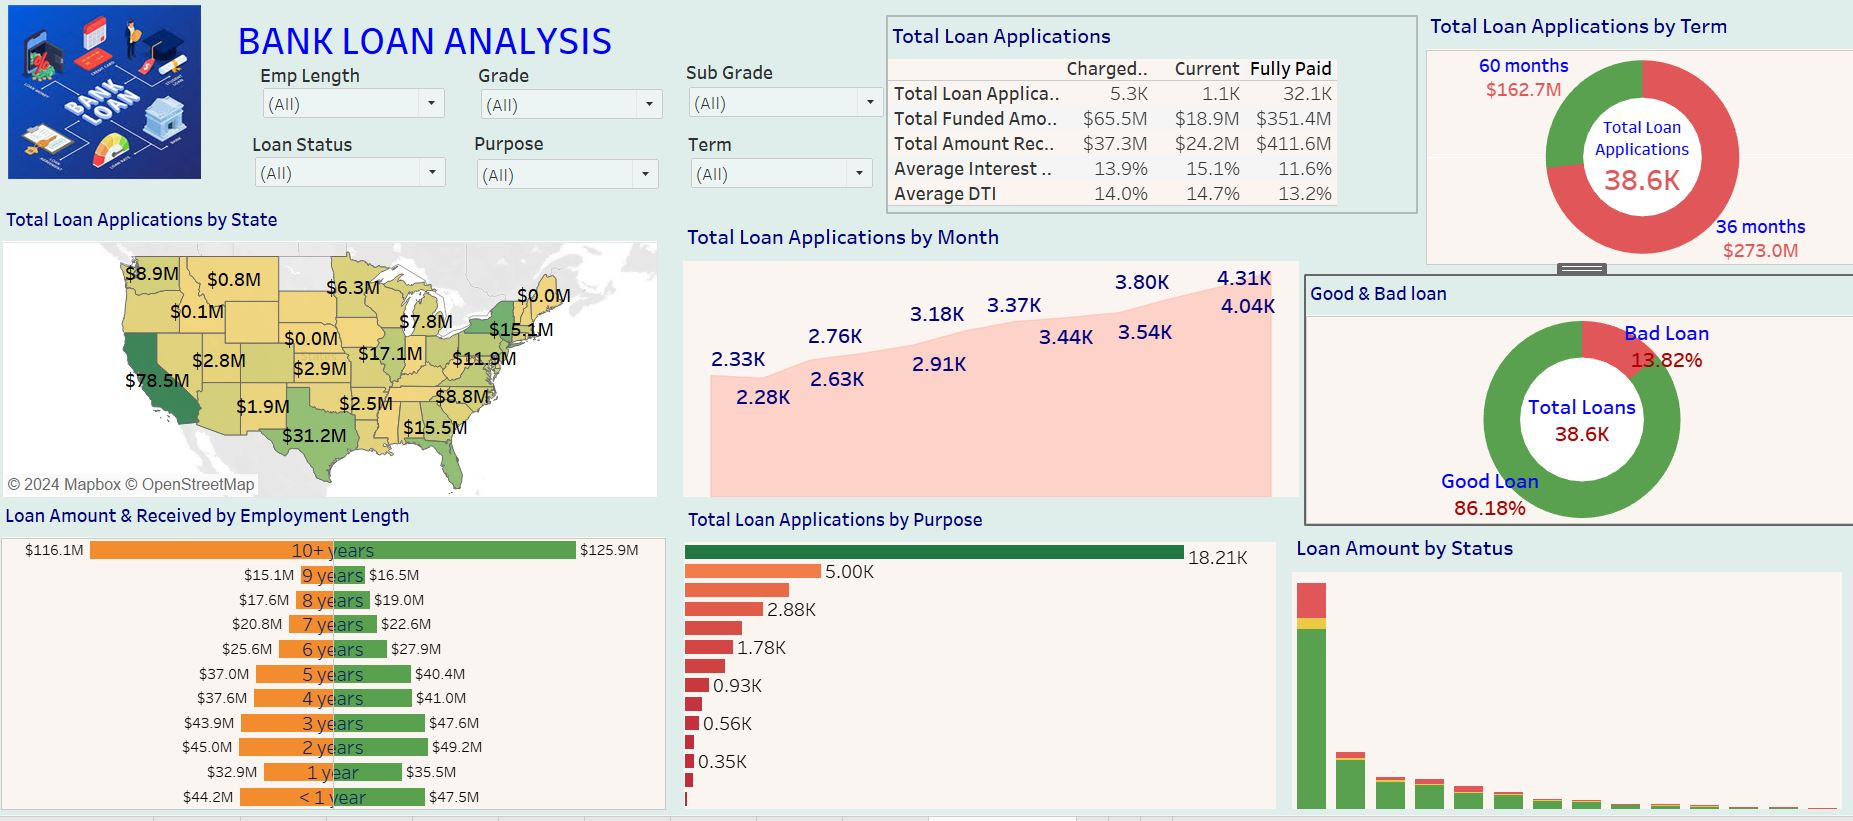

What the dashboard file says about the page in this screenshot:
{"tool":"tableau","page":{"name":"Dashboard 1","canvas":[1000,1000],"units":"permille","ordinal":0},"visuals":[{"type":"image","param":"Image/download.jfif","box":[6.9,9.8,118.5,212.7]},{"type":"worksheet","title":"Sheet 7","mark":"Pie","rows":["Calculation_789537326342385670","Calculation_789537326342385670"],"box":[760.6,12.2,230.7,315.4]},{"type":"text","box":[126.6,20.8,253.3,62.4]},{"type":"worksheet","title":"Sheet 3","mark":"Automatic","cols":["loan_status"],"box":[474.4,24.4,280.6,238.4]},{"type":"filter","title":"Sheet 8","param":"[federated.1e4wqi216tla9s1a881c41comqc8].[none:sub_grade:nk]","box":[367.2,75.8,106.6,73.4]},{"type":"filter","title":"Sheet 8","param":"[federated.1e4wqi216tla9s1a881c41comqc8].[none:emp_length:nk]","box":[140.9,79.5,99.8,68.5]},{"type":"filter","title":"Sheet 8","param":"[federated.1e4wqi216tla9s1a881c41comqc8].[none:grade:nk]","box":[256.9,79.5,99.8,70.9]},{"type":"filter","title":"Sheet 8","param":"[federated.1e4wqi216tla9s1a881c41comqc8].[none:purpose:nk]","box":[254.4,162.6,99.8,75.8]},{"type":"filter","title":"Sheet 8","param":"[federated.1e4wqi216tla9s1a881c41comqc8].[none:loan_status:nk]","box":[136.5,163.8,104.7,69.7]},{"type":"filter","title":"Sheet 8","param":"[federated.1e4wqi216tla9s1a881c41comqc8].[none:term:nk]","box":[368.4,163.8,99.8,72.1]},{"type":"worksheet","title":"Sheet 4","mark":"Automatic","box":[3.7,250.6,348.5,361.9]},{"type":"worksheet","title":"Sheet 6","mark":"Area","rows":["Calculation_789537326325018624"],"cols":["issue_date"],"box":[365.3,270.2,327.3,341.1]},{"type":"worksheet","title":"Sheet 9","mark":"Pie","rows":["Calculation_789537326342385670","Calculation_789537326342385670"],"box":[696.4,341.1,293.6,303.2]},{"type":"worksheet","title":"Sheet 5","mark":"Bar","rows":["emp_length"],"cols":["Calculation_789537326325776385","Calculation_789537326342385670","Calculation_789537326326468610","Calculation_789537326342385670"],"box":[3.1,612.5,353.5,381.4]},{"type":"worksheet","title":"Sheet 8","mark":"Automatic","rows":["purpose"],"cols":["Calculation_789537326325018624"],"box":[366,617.4,314.8,375.3]},{"type":"worksheet","title":"Sheet 1","mark":"Automatic","rows":["loan_amount"],"cols":["purpose"],"box":[688.9,650.4,292.4,342.3]}]}

Visuals, with their boxes on the dashboard's canvas, which has no fixed pixel size, in thousandths of its width and height (x1, y1, x2, y2). These are canvas units, not pixel positions in the 1853x821 screenshot, which may show the page scaled, cropped or inside an application window:
image: [x1=7, y1=10, x2=125, y2=222]
"Sheet 7" worksheet (Pie marks): [x1=761, y1=12, x2=991, y2=328]
text: [x1=127, y1=21, x2=380, y2=83]
"Sheet 3" worksheet: [x1=474, y1=24, x2=755, y2=263]
"Sheet 8" filter: [x1=367, y1=76, x2=474, y2=149]
"Sheet 8" filter: [x1=141, y1=80, x2=241, y2=148]
"Sheet 8" filter: [x1=257, y1=80, x2=357, y2=150]
"Sheet 8" filter: [x1=254, y1=163, x2=354, y2=238]
"Sheet 8" filter: [x1=136, y1=164, x2=241, y2=234]
"Sheet 8" filter: [x1=368, y1=164, x2=468, y2=236]
"Sheet 4" worksheet: [x1=4, y1=251, x2=352, y2=612]
"Sheet 6" worksheet (Area marks): [x1=365, y1=270, x2=693, y2=611]
"Sheet 9" worksheet (Pie marks): [x1=696, y1=341, x2=990, y2=644]
"Sheet 5" worksheet (Bar marks): [x1=3, y1=612, x2=357, y2=994]
"Sheet 8" worksheet: [x1=366, y1=617, x2=681, y2=993]
"Sheet 1" worksheet: [x1=689, y1=650, x2=981, y2=993]
